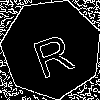R: (26, 24, 77, 80)
